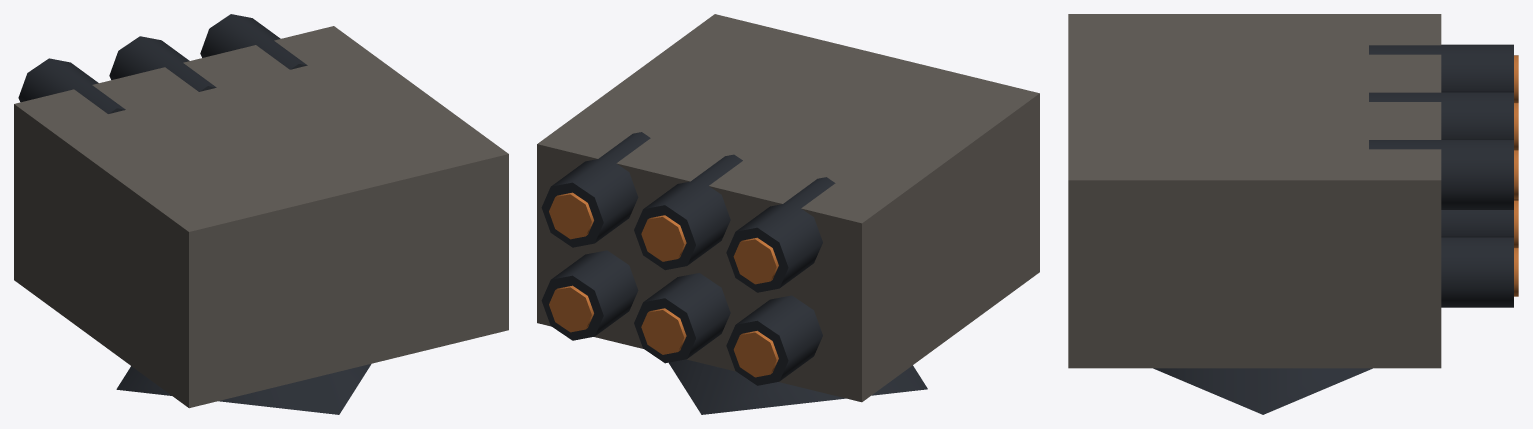
The model's file is compact_high_gravity--missile_pod.glb.
3 renders of one model, left to right at view 1: azimuth 30°, elevation 25°; view 2: azimuth 150°, elevation 25°; view 3: azimuth 270°, elevation 25°, orthographic. The views are drawn at different scales.
Parts seen in each view (by area): view 1: armored_module_housing_3, mount_adapter_1, launch_tube_6, launch_tube_14, launch_tube_10; view 2: armored_module_housing_3, mount_adapter_1, launch_tube_10, launch_tube_6, launch_tube_14, launch_tube_8, launch_tube_4, launch_tube_12, launcher_cap_7, launcher_cap_11, launcher_cap_5, launcher_cap_9 (+2 smaller); view 3: armored_module_housing_3, launch_tube_14, mount_adapter_1, launch_tube_12, launch_tube_6, launch_tube_10, launch_tube_8.
Boxes of the visible parts, bbox=[...] form: armored_module_housing_3: bbox=[14, 26, 508, 408]; mount_adapter_1: bbox=[116, 364, 371, 414]; launch_tube_6: bbox=[18, 58, 125, 113]; launch_tube_14: bbox=[200, 14, 307, 69]; launch_tube_10: bbox=[109, 36, 216, 91]; armored_module_housing_3: bbox=[537, 14, 1039, 402]; mount_adapter_1: bbox=[669, 359, 927, 414]; launch_tube_10: bbox=[634, 154, 742, 270]; launch_tube_6: bbox=[726, 177, 835, 292]; launch_tube_14: bbox=[541, 132, 650, 247]; launch_tube_8: bbox=[634, 273, 730, 363]; launch_tube_4: bbox=[726, 295, 822, 385]; launch_tube_12: bbox=[541, 250, 638, 340]; launcher_cap_7: bbox=[733, 237, 778, 284]; launcher_cap_11: bbox=[641, 215, 686, 261]; launcher_cap_5: bbox=[733, 330, 778, 377]; launcher_cap_9: bbox=[641, 308, 686, 354]; armored_module_housing_3: bbox=[1068, 14, 1441, 368]; launch_tube_14: bbox=[1369, 139, 1513, 209]; mount_adapter_1: bbox=[1153, 368, 1372, 414]; launch_tube_12: bbox=[1441, 236, 1513, 307]; launch_tube_6: bbox=[1369, 44, 1513, 91]; launch_tube_10: bbox=[1369, 91, 1513, 138]; launch_tube_8: bbox=[1441, 210, 1513, 236].
Bounding box in the file's own units: 22.8 × 15.86 × 26.08.
